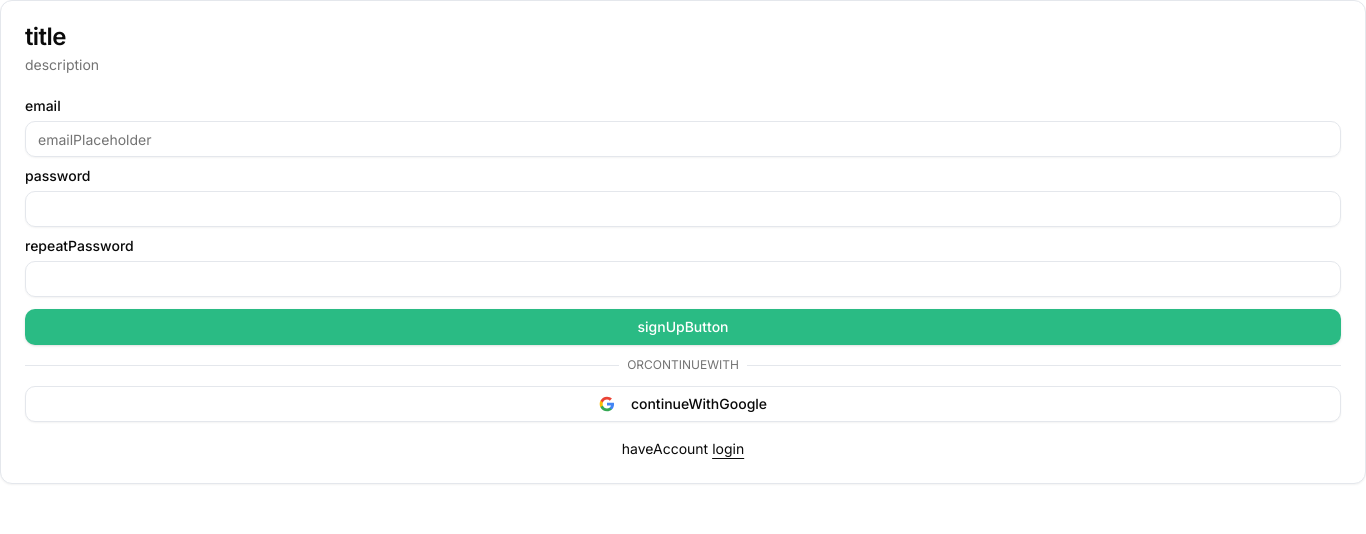
Test: SignUpForm › displays error message on sign up failure
Type "existing@example.com" into the field labelled "email". click: (683, 139)
box: [25,121,1341,157]
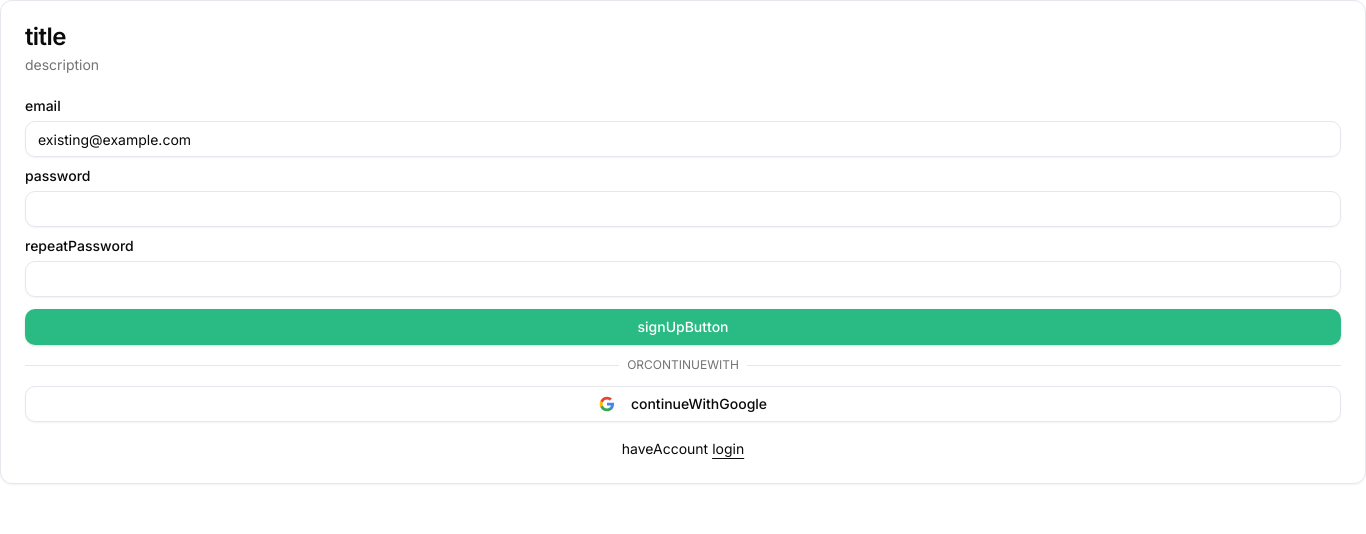
Type "password123" into the password field labelled "password". click: (683, 209)
box: [25,191,1341,227]
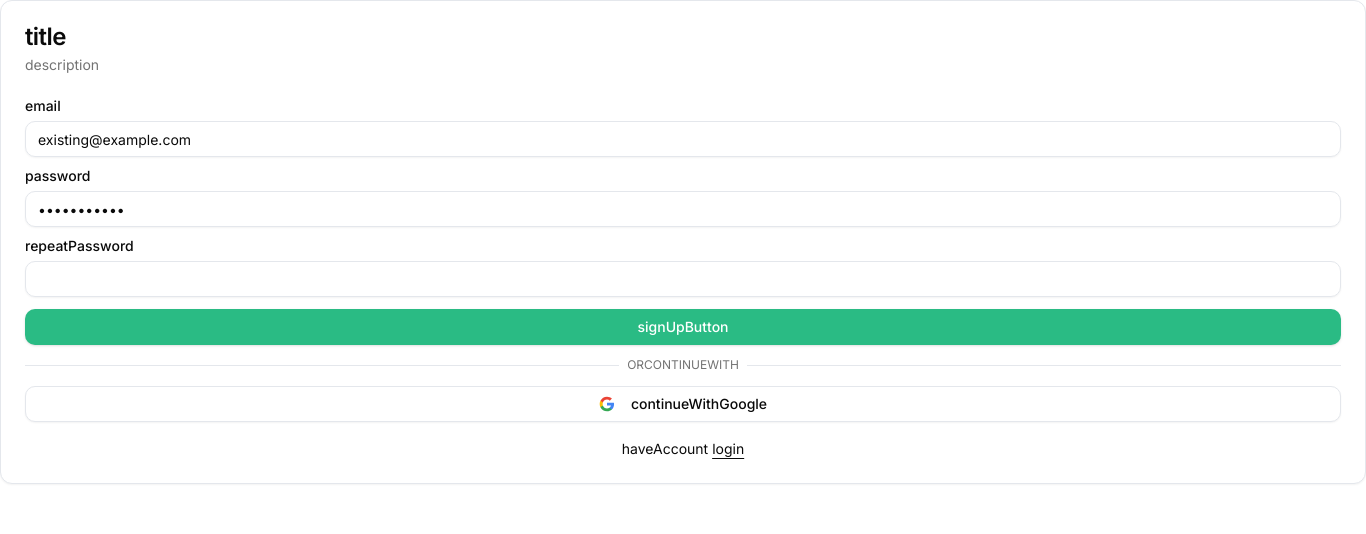
Type "password123" into the password field labelled "repeatPassword". click: (683, 279)
box: [25,261,1341,297]
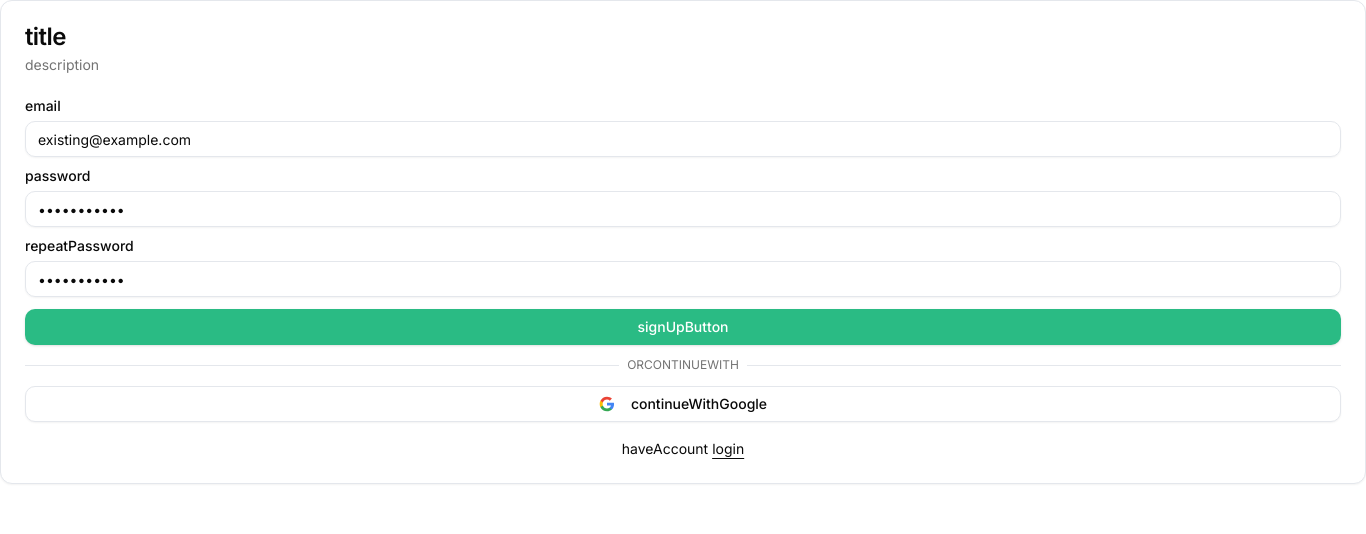
Click the button "signUpButton". click: (683, 327)
box: [25,309,1341,345]
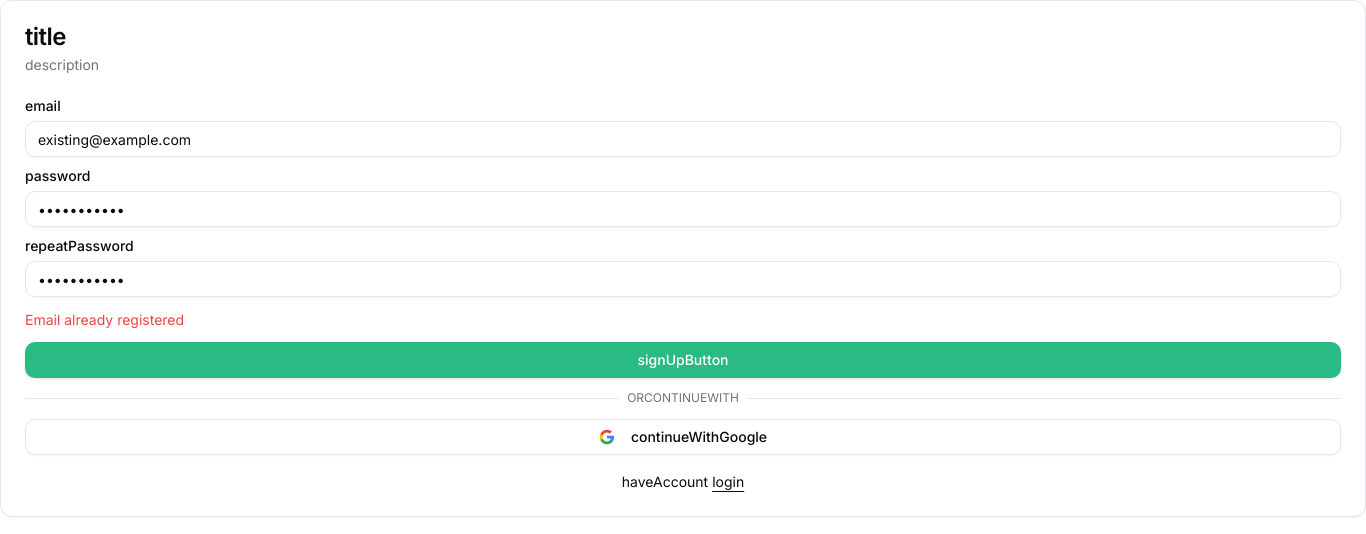
Check: the text "Email already registered" is shown, box [25,311,184,328]
